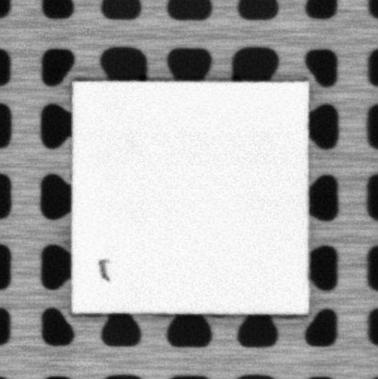DIE_INK: (97, 256, 111, 283)
